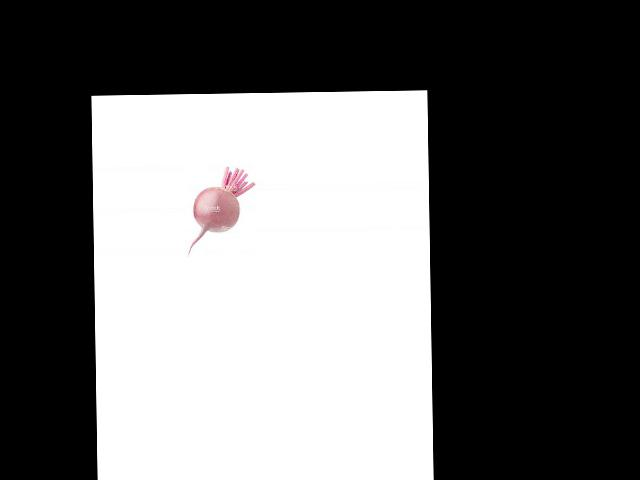beet: (186, 166, 256, 255)
